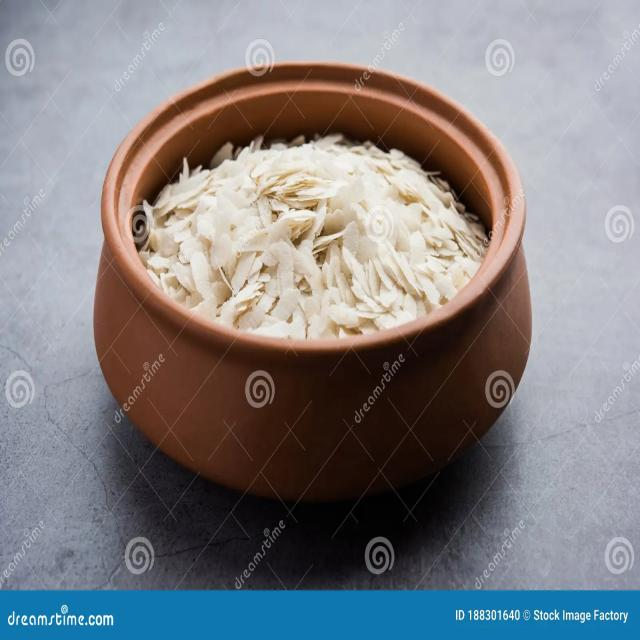UPMA: (134, 136, 486, 335)
